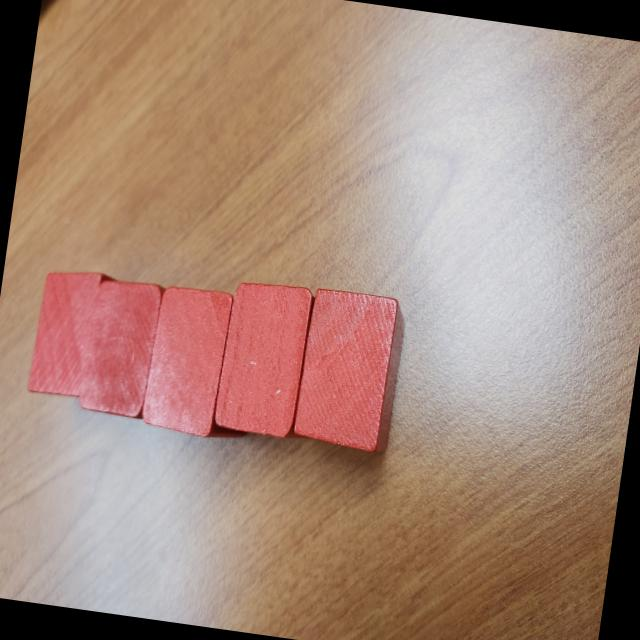red: (290, 286, 408, 457), (212, 278, 315, 440), (139, 284, 236, 442), (25, 264, 116, 404), (77, 276, 166, 419)
